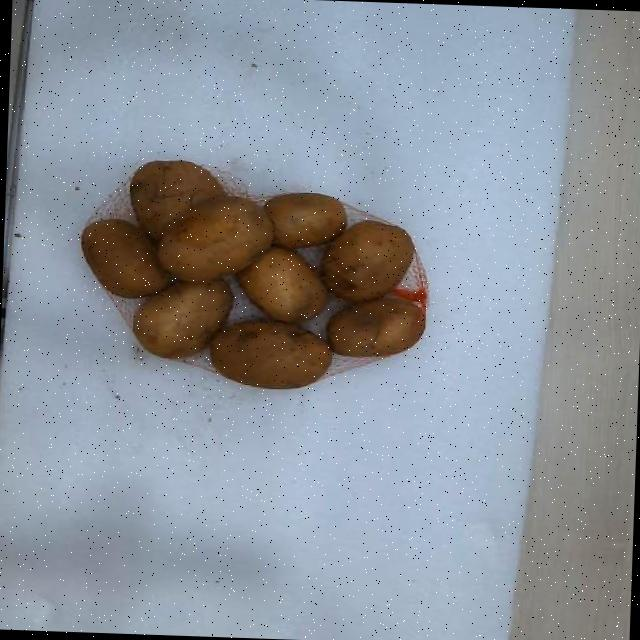potato: (156, 195, 273, 283), (210, 321, 330, 389), (133, 279, 231, 359), (130, 160, 224, 241), (320, 221, 413, 302), (81, 219, 168, 297), (237, 246, 326, 321), (327, 297, 422, 356), (264, 194, 345, 248)
